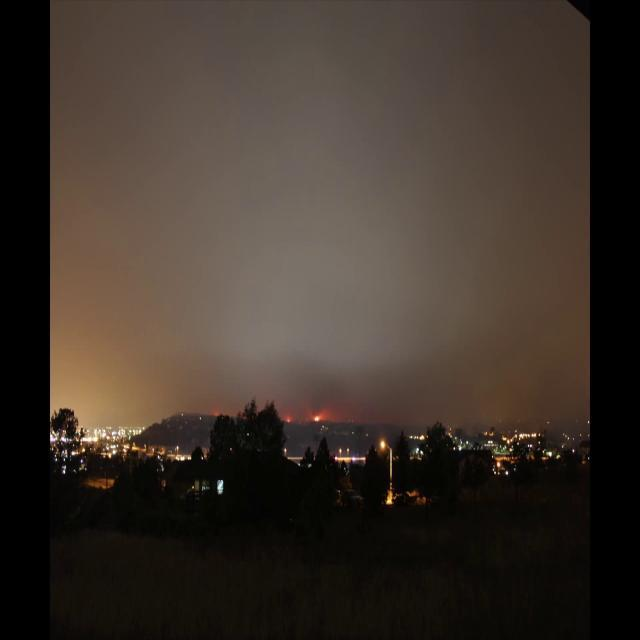Fire: (313, 414, 320, 422), (286, 415, 290, 422)
Smoke: (49, 3, 589, 449)
